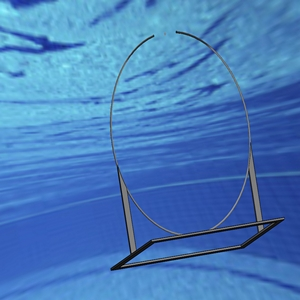circle: (109, 29, 284, 271)
